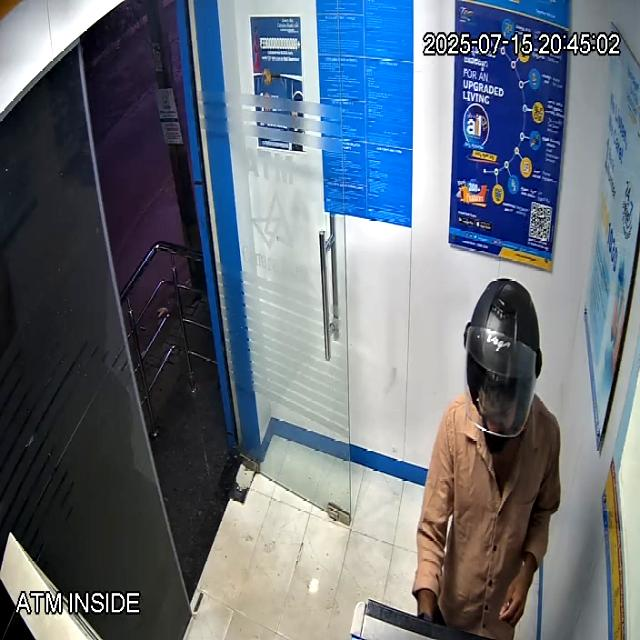helmet: (464, 278, 543, 438)
